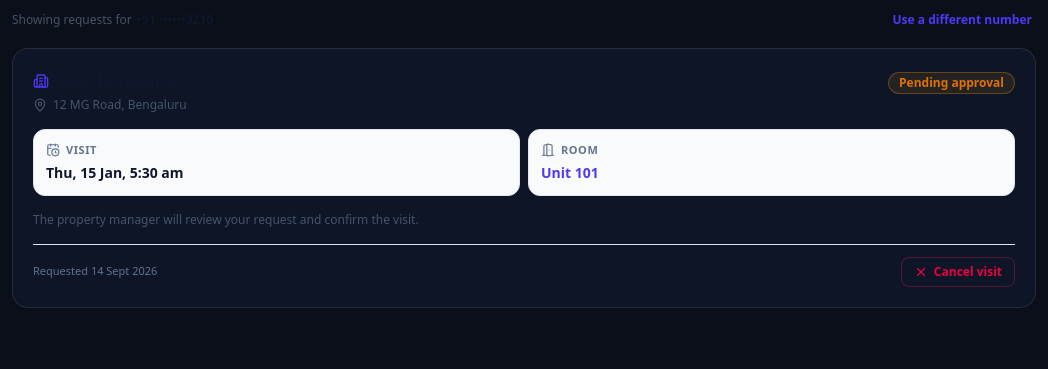
Test: MyRequestsView › cancels a pending visit after confirmation
Click the button "Cancel visit": (958, 272) [901, 256, 1015, 286]
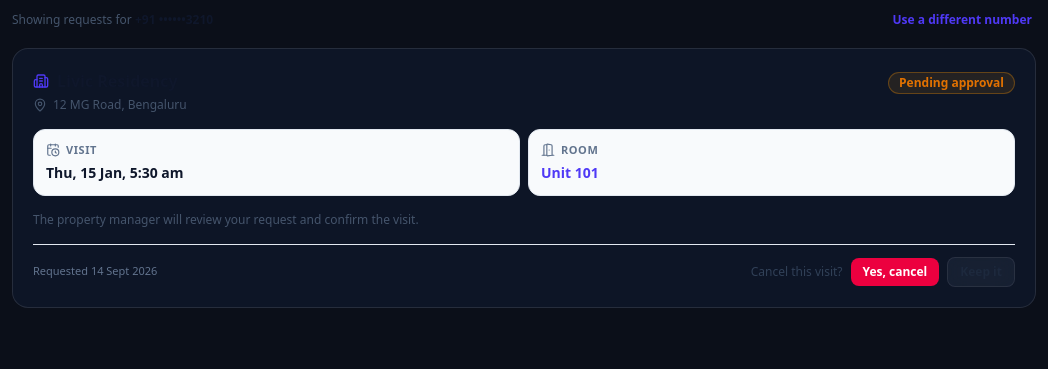
Click the button "Keep it": (981, 272) [947, 256, 1015, 286]
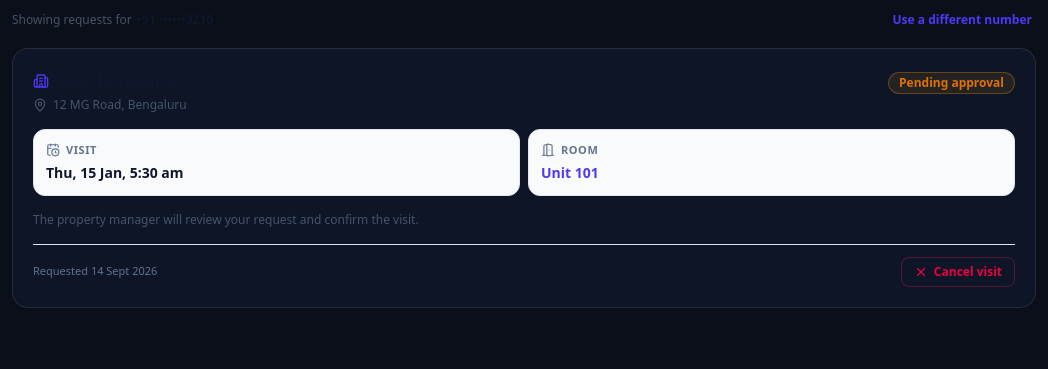
Click the button "Cancel visit": (958, 272) [901, 256, 1015, 286]
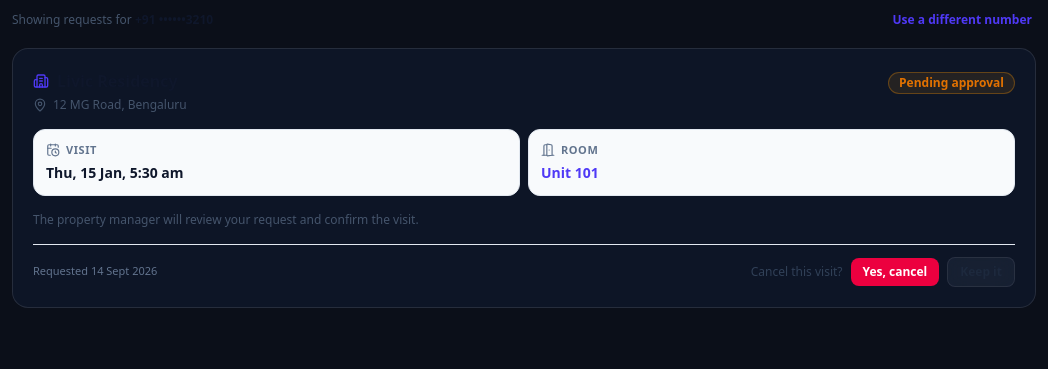
Click the button "Yes, cancel": (895, 272) [850, 258, 939, 286]
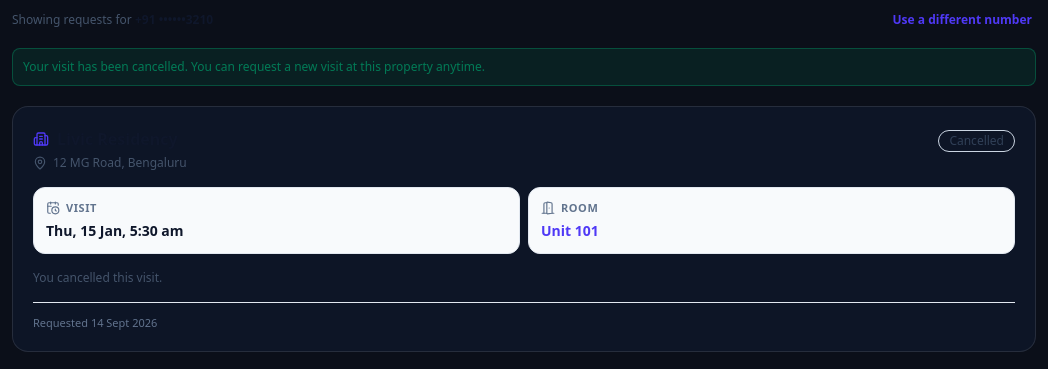
Expected: the button "Cancel visit" is not shown
Expected: the text "Your visit has been cancelled" is shown, [23, 58, 485, 75]
Expected: the text "Cancelled" is shown, [938, 130, 1015, 152]
